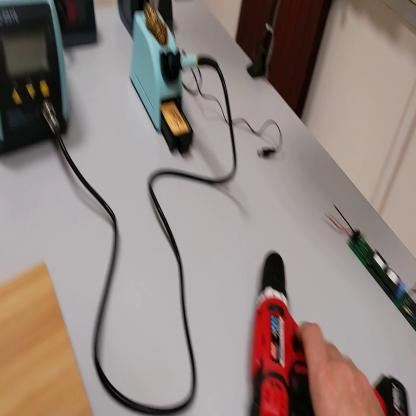electric screwdriver: (246, 247, 411, 416)
hand: (294, 319, 385, 415)
high voltage board: (322, 200, 416, 330)
socket: (119, 1, 175, 43), (56, 3, 98, 50)
welder base: (131, 2, 196, 157)
welder probe tip: (169, 51, 214, 78)
welder station: (3, 2, 70, 155)
working area: (2, 261, 95, 415)
